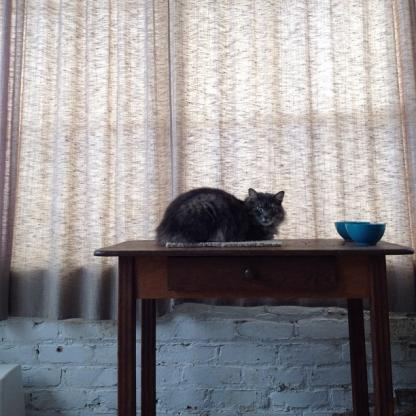Target: (156, 183, 288, 247)
